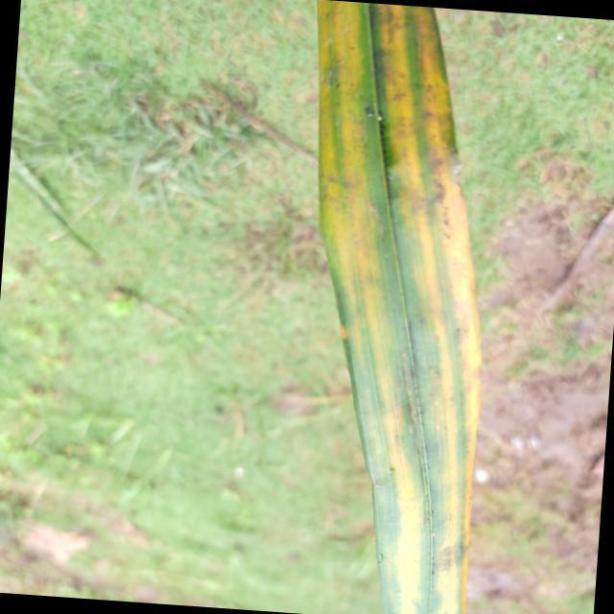Megnesium: (315, 0, 481, 614)
